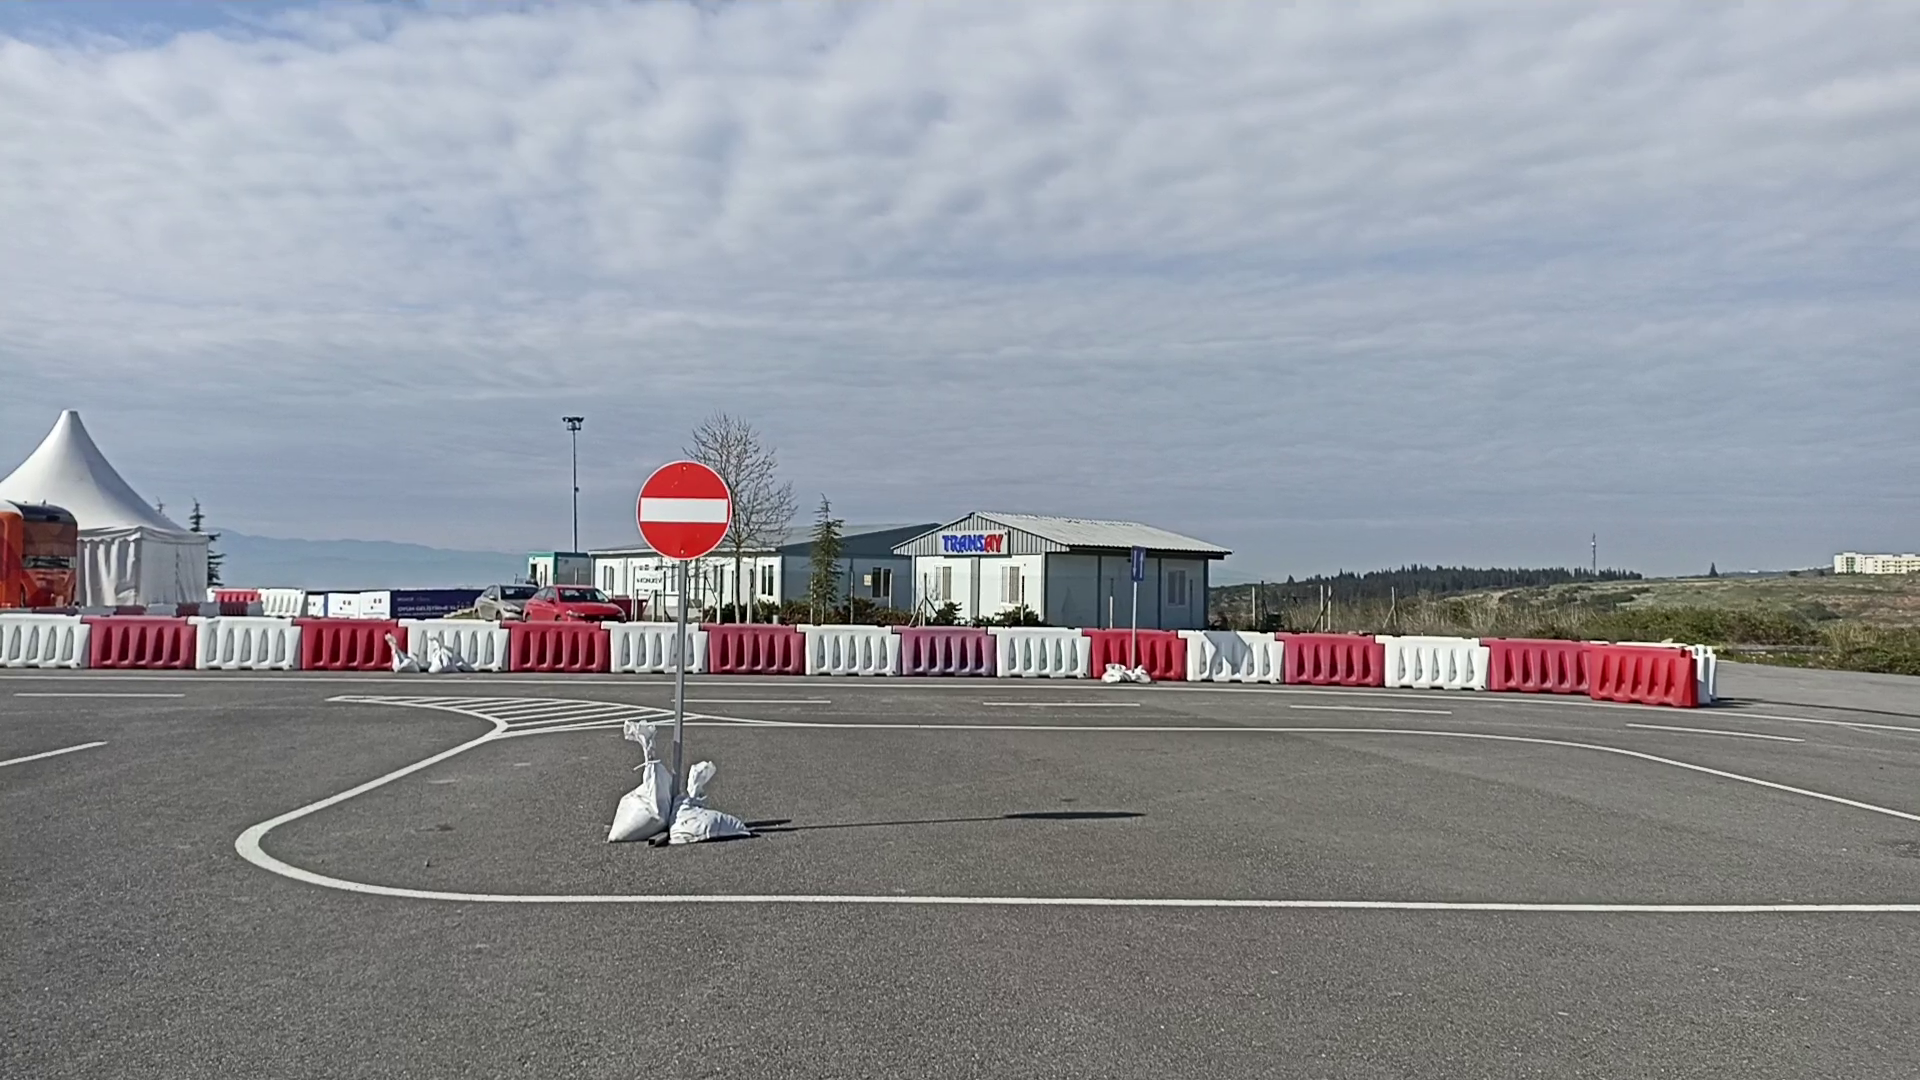noentryway: (632, 458, 737, 563)
